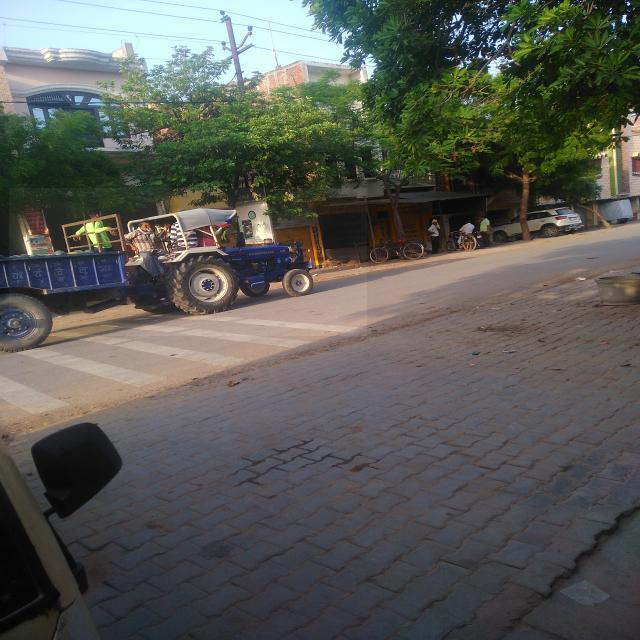Tractot: (9, 188, 367, 336)
